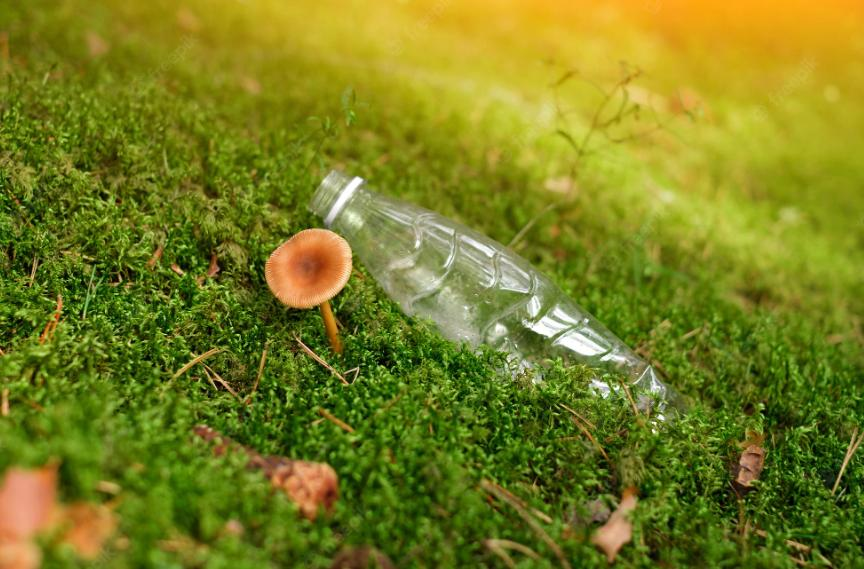bottle: (298, 149, 693, 447)
